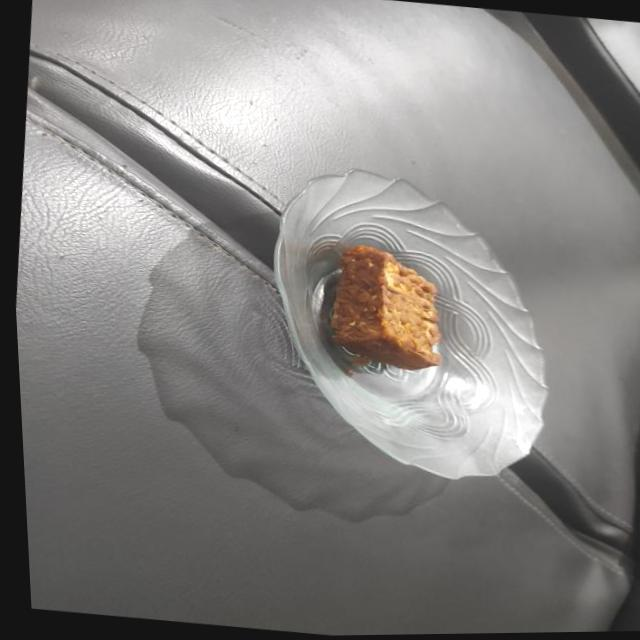tempe_goreng: (330, 246, 440, 370)
